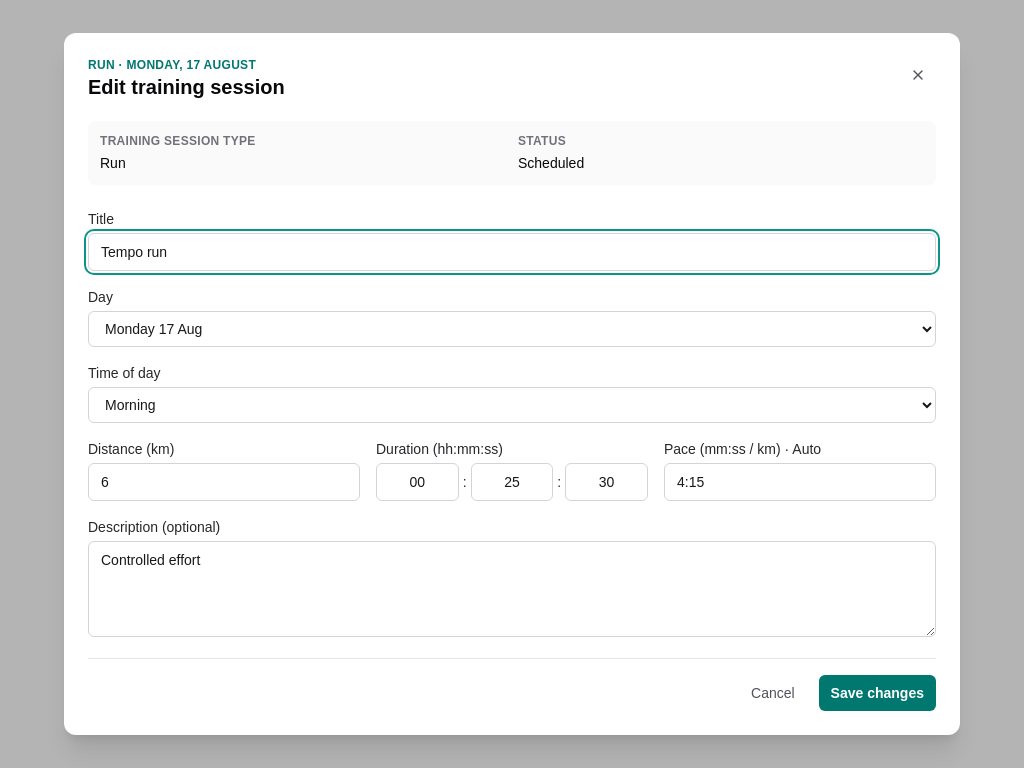
Test: keeps the modal open after a failed edit
This screenshot has width=1024, height=768.
Replace the text in the field labelled "Title" with "Changed" at (512, 252), box x1=88 y1=233 x2=936 y2=271
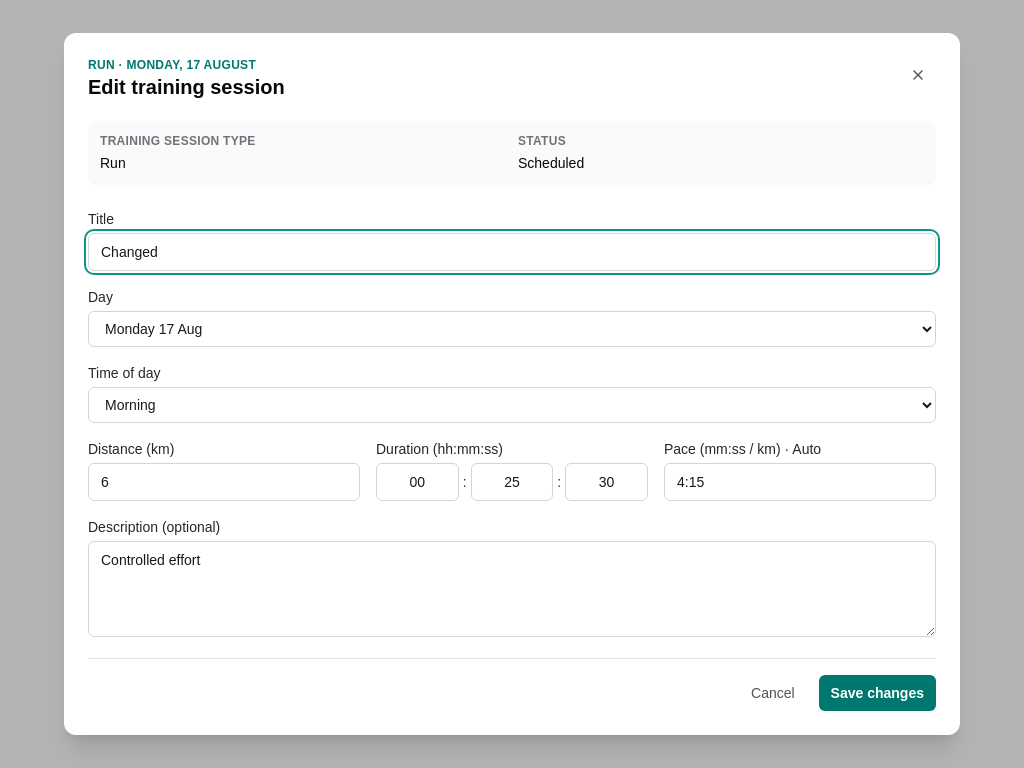
Click the button "Save changes" at (877, 693), box x1=819 y1=675 x2=936 y2=711
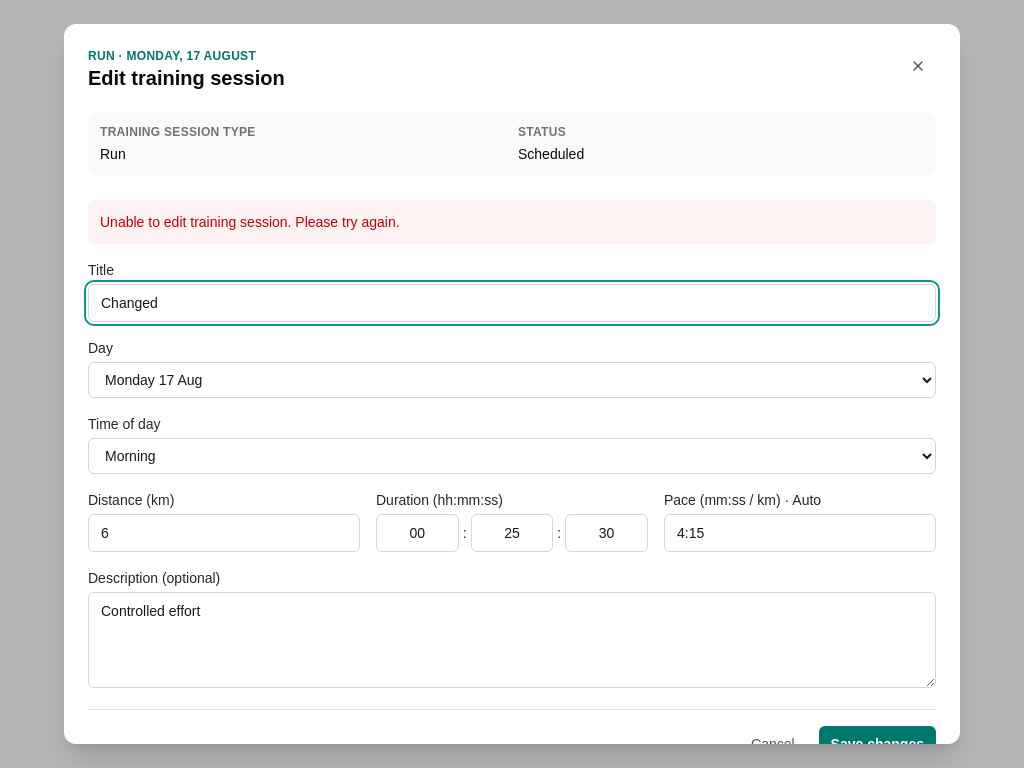
Expected: the message shows "Unable to edit training session", x1=100 y1=214 x2=400 y2=230
